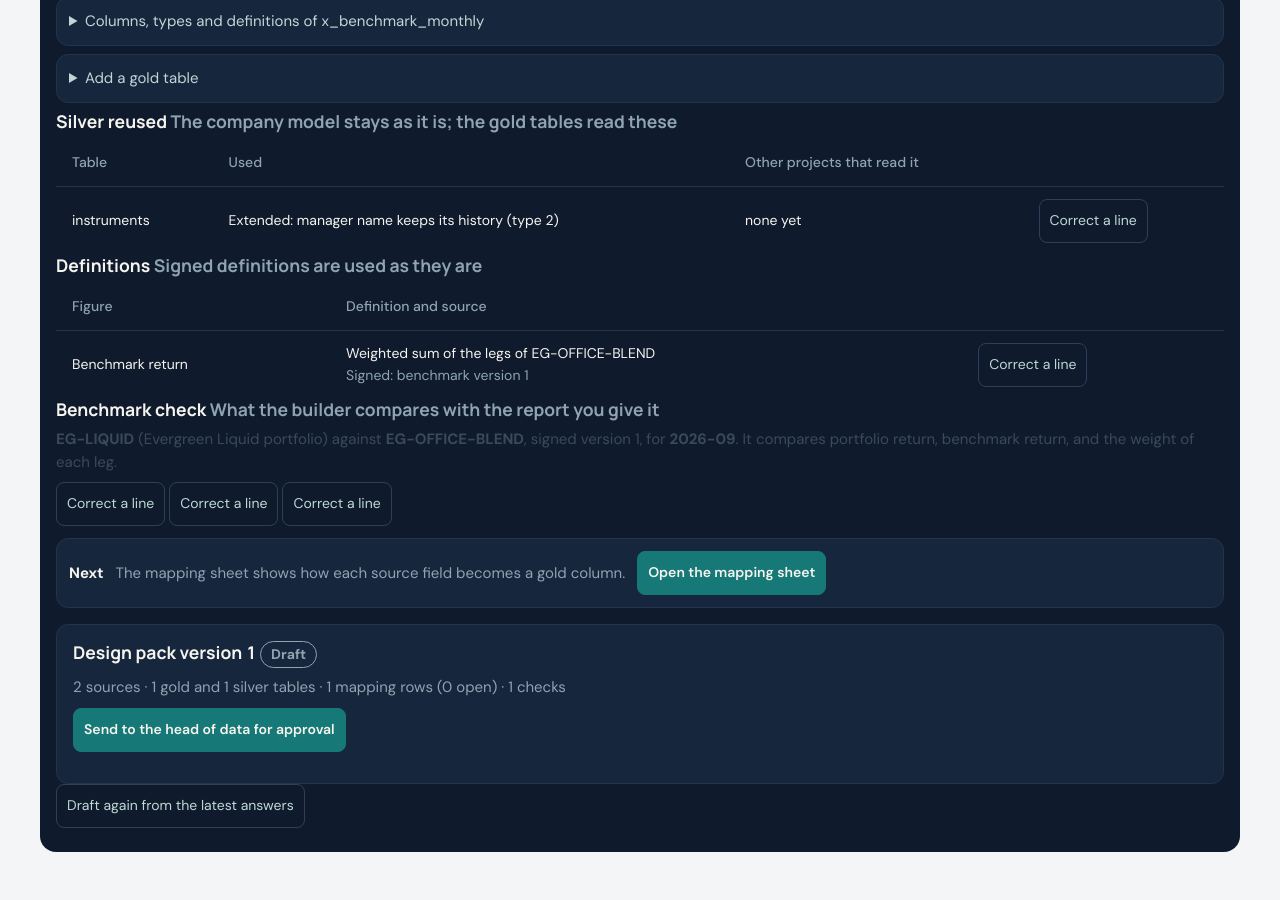
V6B: the full target model › shows typed columns, grain and key, the type 2 columns, the definitions and the benchmark check; Compare versions waits for a second version
(page scrolled)
Expected: the table named "Silver reused" shows "manager name keeps its history", [229,211,559,229]
Expected: the table named "Definitions" shows "Signed: benchmark version 1", [346,366,529,384]
Step 1. Click the button "Open the mapping sheet" → (732, 573), box [637,551,826,595]
(page scrolled)
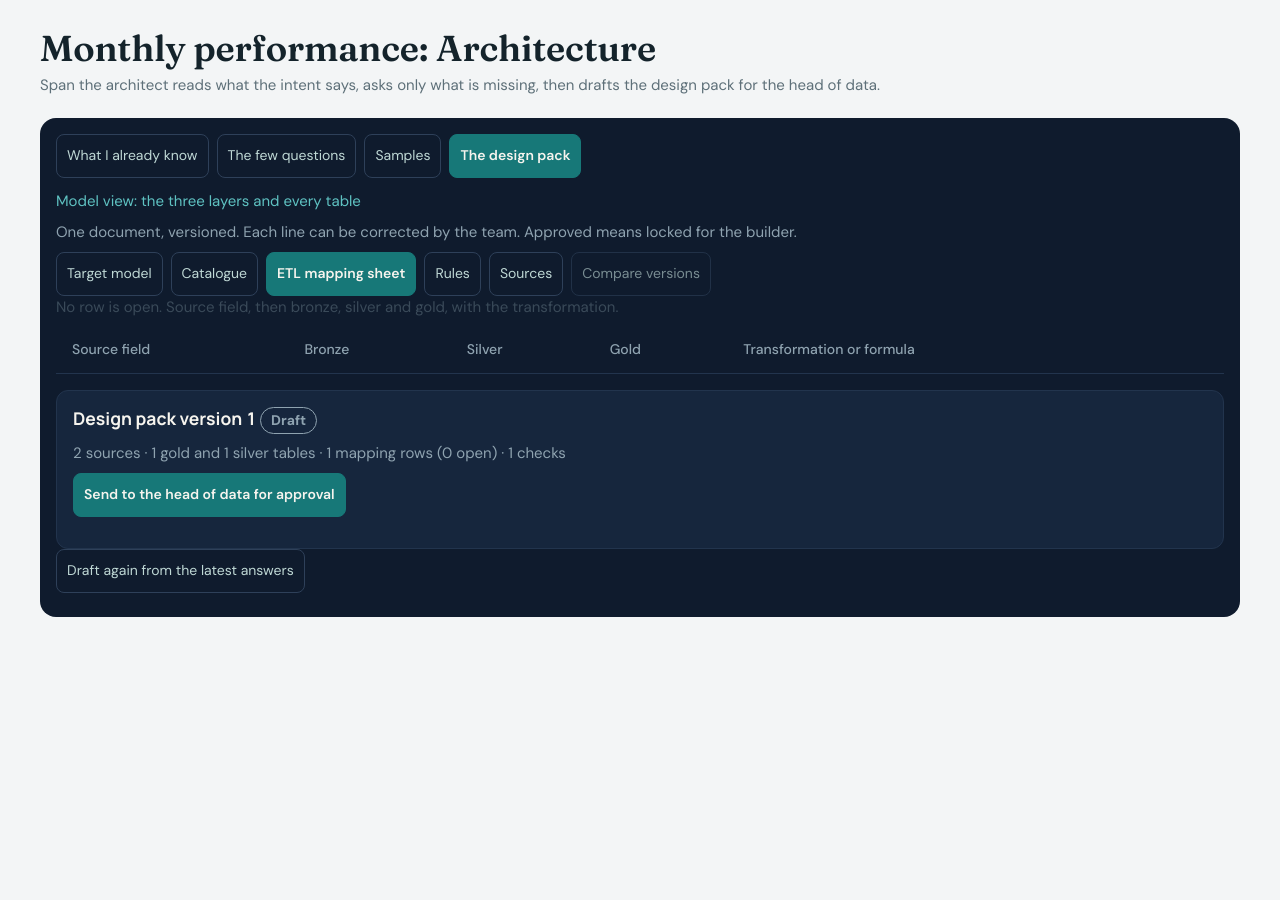
Result: the text "No row is open." is shown at [56,297,162,317]
